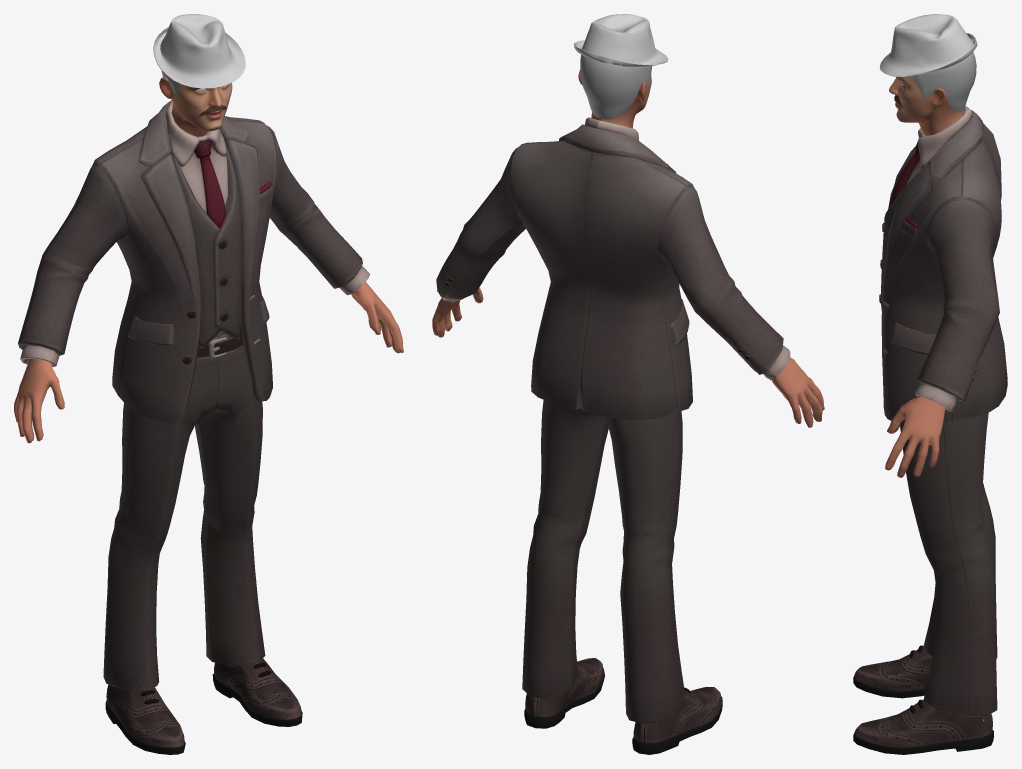
The model's file is Main Character.fbx.
3 renders of one model, left to right at view 1: azimuth 30°, elevation 25°; view 2: azimuth 150°, elevation 25°; view 3: azimuth 270°, elevation 25°, orthographic.
Visible parts, largest first — view 1: Wolf3D_Outfit_Top, Wolf3D_Outfit_Bottom, Wolf3D_Outfit_Footwear, Hat, Wolf3D_Body, Wolf3D_Head; view 2: Wolf3D_Outfit_Top, Wolf3D_Outfit_Bottom, Wolf3D_Outfit_Footwear, Hat, Hair, Wolf3D_Body, Wolf3D_Head; view 3: Wolf3D_Outfit_Top, Wolf3D_Outfit_Bottom, Wolf3D_Outfit_Footwear, Hat, Wolf3D_Body, Wolf3D_Head, Hair.
Part boxes in pixels (x1,y1,x2,y2): Wolf3D_Outfit_Top: [18, 100, 369, 423]; Wolf3D_Outfit_Bottom: [103, 333, 265, 690]; Wolf3D_Outfit_Footwear: [105, 657, 302, 754]; Hat: [153, 14, 245, 88]; Wolf3D_Body: [14, 282, 403, 443]; Wolf3D_Head: [159, 77, 232, 136]; Wolf3D_Outfit_Top: [436, 117, 790, 419]; Wolf3D_Outfit_Bottom: [522, 400, 684, 724]; Wolf3D_Outfit_Footwear: [524, 658, 722, 754]; Hat: [573, 14, 668, 67]; Hair: [580, 54, 652, 119]; Wolf3D_Body: [432, 288, 824, 726]; Wolf3D_Head: [578, 69, 651, 128]; Wolf3D_Outfit_Top: [879, 106, 1007, 424]; Wolf3D_Outfit_Bottom: [900, 412, 997, 716]; Wolf3D_Outfit_Footwear: [853, 645, 993, 754]; Hat: [879, 14, 977, 77]; Wolf3D_Body: [885, 396, 984, 721]; Wolf3D_Head: [889, 75, 964, 135]; Hair: [913, 52, 976, 111].
Size of the model in its own units: 106 by 187 by 37.73.
